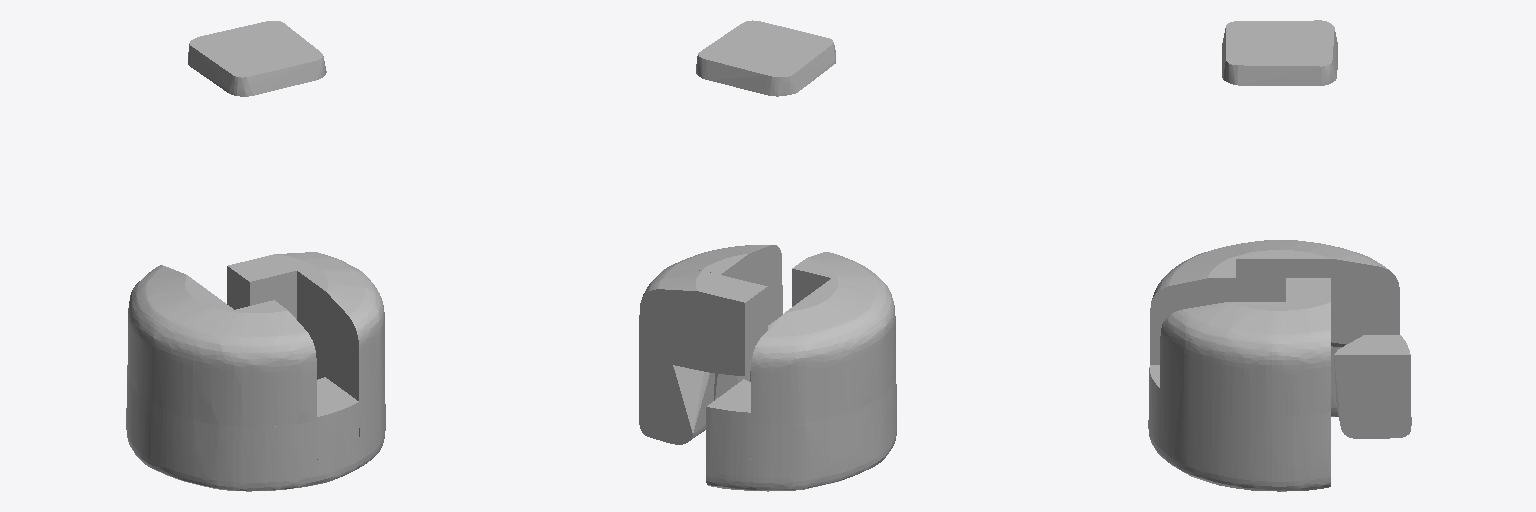
robot.urdf — root:
<robot name="root"><link name="body"><visual>
      <origin xyz="0 0 0" rpy="0 0 0" />
      <geometry>
        <mesh filename="coacd_convex_piece_0.obj" scale="1.0000E+00 1.0000E+00 1.0000E+00" />
      </geometry>
      <material name="">
        <color rgba="7.50E-01 7.50E-01 7.50E-01 1" />
      </material>
    </visual>
    <collision>
      <origin xyz="0 0 0" rpy="0 0 0" />
      <geometry>
        <mesh filename="coacd_convex_piece_0.obj" scale="1.0000E+00 1.0000E+00 1.0000E+00" />
      </geometry>
    </collision>
  <visual>
      <origin xyz="0 0 0" rpy="0 0 0" />
      <geometry>
        <mesh filename="coacd_convex_piece_1.obj" scale="1.0000E+00 1.0000E+00 1.0000E+00" />
      </geometry>
      <material name="">
        <color rgba="7.50E-01 7.50E-01 7.50E-01 1" />
      </material>
    </visual>
    <collision>
      <origin xyz="0 0 0" rpy="0 0 0" />
      <geometry>
        <mesh filename="coacd_convex_piece_1.obj" scale="1.0000E+00 1.0000E+00 1.0000E+00" />
      </geometry>
    </collision>
  <visual>
      <origin xyz="0 0 0" rpy="0 0 0" />
      <geometry>
        <mesh filename="coacd_convex_piece_2.obj" scale="1.0000E+00 1.0000E+00 1.0000E+00" />
      </geometry>
      <material name="">
        <color rgba="7.50E-01 7.50E-01 7.50E-01 1" />
      </material>
    </visual>
    <collision>
      <origin xyz="0 0 0" rpy="0 0 0" />
      <geometry>
        <mesh filename="coacd_convex_piece_2.obj" scale="1.0000E+00 1.0000E+00 1.0000E+00" />
      </geometry>
    </collision>
  <visual>
      <origin xyz="0 0 0" rpy="0 0 0" />
      <geometry>
        <mesh filename="coacd_convex_piece_3.obj" scale="1.0000E+00 1.0000E+00 1.0000E+00" />
      </geometry>
      <material name="">
        <color rgba="7.50E-01 7.50E-01 7.50E-01 1" />
      </material>
    </visual>
    <collision>
      <origin xyz="0 0 0" rpy="0 0 0" />
      <geometry>
        <mesh filename="coacd_convex_piece_3.obj" scale="1.0000E+00 1.0000E+00 1.0000E+00" />
      </geometry>
    </collision>
  <visual>
      <origin xyz="0 0 0" rpy="0 0 0" />
      <geometry>
        <mesh filename="coacd_convex_piece_4.obj" scale="1.0000E+00 1.0000E+00 1.0000E+00" />
      </geometry>
      <material name="">
        <color rgba="7.50E-01 7.50E-01 7.50E-01 1" />
      </material>
    </visual>
    <collision>
      <origin xyz="0 0 0" rpy="0 0 0" />
      <geometry>
        <mesh filename="coacd_convex_piece_4.obj" scale="1.0000E+00 1.0000E+00 1.0000E+00" />
      </geometry>
    </collision>
  <visual>
      <origin xyz="0 0 0" rpy="0 0 0" />
      <geometry>
        <mesh filename="coacd_convex_piece_5.obj" scale="1.0000E+00 1.0000E+00 1.0000E+00" />
      </geometry>
      <material name="">
        <color rgba="7.50E-01 7.50E-01 7.50E-01 1" />
      </material>
    </visual>
    <collision>
      <origin xyz="0 0 0" rpy="0 0 0" />
      <geometry>
        <mesh filename="coacd_convex_piece_5.obj" scale="1.0000E+00 1.0000E+00 1.0000E+00" />
      </geometry>
    </collision>
  <visual>
      <origin xyz="0 0 0" rpy="0 0 0" />
      <geometry>
        <mesh filename="coacd_convex_piece_6.obj" scale="1.0000E+00 1.0000E+00 1.0000E+00" />
      </geometry>
      <material name="">
        <color rgba="7.50E-01 7.50E-01 7.50E-01 1" />
      </material>
    </visual>
    <collision>
      <origin xyz="0 0 0" rpy="0 0 0" />
      <geometry>
        <mesh filename="coacd_convex_piece_6.obj" scale="1.0000E+00 1.0000E+00 1.0000E+00" />
      </geometry>
    </collision>
  <visual>
      <origin xyz="0 0 0" rpy="0 0 0" />
      <geometry>
        <mesh filename="coacd_convex_piece_7.obj" scale="1.0000E+00 1.0000E+00 1.0000E+00" />
      </geometry>
      <material name="">
        <color rgba="7.50E-01 7.50E-01 7.50E-01 1" />
      </material>
    </visual>
    <collision>
      <origin xyz="0 0 0" rpy="0 0 0" />
      <geometry>
        <mesh filename="coacd_convex_piece_7.obj" scale="1.0000E+00 1.0000E+00 1.0000E+00" />
      </geometry>
    </collision>
  <visual>
      <origin xyz="0 0 0" rpy="0 0 0" />
      <geometry>
        <mesh filename="coacd_convex_piece_8.obj" scale="1.0000E+00 1.0000E+00 1.0000E+00" />
      </geometry>
      <material name="">
        <color rgba="7.50E-01 7.50E-01 7.50E-01 1" />
      </material>
    </visual>
    <collision>
      <origin xyz="0 0 0" rpy="0 0 0" />
      <geometry>
        <mesh filename="coacd_convex_piece_8.obj" scale="1.0000E+00 1.0000E+00 1.0000E+00" />
      </geometry>
    </collision>
  <visual>
      <origin xyz="0 0 0" rpy="0 0 0" />
      <geometry>
        <mesh filename="coacd_convex_piece_9.obj" scale="1.0000E+00 1.0000E+00 1.0000E+00" />
      </geometry>
      <material name="">
        <color rgba="7.50E-01 7.50E-01 7.50E-01 1" />
      </material>
    </visual>
    <collision>
      <origin xyz="0 0 0" rpy="0 0 0" />
      <geometry>
        <mesh filename="coacd_convex_piece_9.obj" scale="1.0000E+00 1.0000E+00 1.0000E+00" />
      </geometry>
    </collision>
  <visual>
      <origin xyz="0 0 0" rpy="0 0 0" />
      <geometry>
        <mesh filename="coacd_convex_piece_10.obj" scale="1.0000E+00 1.0000E+00 1.0000E+00" />
      </geometry>
      <material name="">
        <color rgba="7.50E-01 7.50E-01 7.50E-01 1" />
      </material>
    </visual>
    <collision>
      <origin xyz="0 0 0" rpy="0 0 0" />
      <geometry>
        <mesh filename="coacd_convex_piece_10.obj" scale="1.0000E+00 1.0000E+00 1.0000E+00" />
      </geometry>
    </collision>
  <visual>
      <origin xyz="0 0 0" rpy="0 0 0" />
      <geometry>
        <mesh filename="coacd_convex_piece_11.obj" scale="1.0000E+00 1.0000E+00 1.0000E+00" />
      </geometry>
      <material name="">
        <color rgba="7.50E-01 7.50E-01 7.50E-01 1" />
      </material>
    </visual>
    <collision>
      <origin xyz="0 0 0" rpy="0 0 0" />
      <geometry>
        <mesh filename="coacd_convex_piece_11.obj" scale="1.0000E+00 1.0000E+00 1.0000E+00" />
      </geometry>
    </collision>
  <visual>
      <origin xyz="0 0 0" rpy="0 0 0" />
      <geometry>
        <mesh filename="coacd_convex_piece_12.obj" scale="1.0000E+00 1.0000E+00 1.0000E+00" />
      </geometry>
      <material name="">
        <color rgba="7.50E-01 7.50E-01 7.50E-01 1" />
      </material>
    </visual>
    <collision>
      <origin xyz="0 0 0" rpy="0 0 0" />
      <geometry>
        <mesh filename="coacd_convex_piece_12.obj" scale="1.0000E+00 1.0000E+00 1.0000E+00" />
      </geometry>
    </collision>
  <visual>
      <origin xyz="0 0 0" rpy="0 0 0" />
      <geometry>
        <mesh filename="coacd_convex_piece_13.obj" scale="1.0000E+00 1.0000E+00 1.0000E+00" />
      </geometry>
      <material name="">
        <color rgba="7.50E-01 7.50E-01 7.50E-01 1" />
      </material>
    </visual>
    <collision>
      <origin xyz="0 0 0" rpy="0 0 0" />
      <geometry>
        <mesh filename="coacd_convex_piece_13.obj" scale="1.0000E+00 1.0000E+00 1.0000E+00" />
      </geometry>
    </collision>
  <visual>
      <origin xyz="0 0 0" rpy="0 0 0" />
      <geometry>
        <mesh filename="coacd_convex_piece_14.obj" scale="1.0000E+00 1.0000E+00 1.0000E+00" />
      </geometry>
      <material name="">
        <color rgba="7.50E-01 7.50E-01 7.50E-01 1" />
      </material>
    </visual>
    <collision>
      <origin xyz="0 0 0" rpy="0 0 0" />
      <geometry>
        <mesh filename="coacd_convex_piece_14.obj" scale="1.0000E+00 1.0000E+00 1.0000E+00" />
      </geometry>
    </collision>
  </link></robot>

--- Render facts (derived) ---
3 views of the same robot in one strip: view 1: azimuth 30°, elevation 25°; view 2: azimuth 150°, elevation 25°; view 3: azimuth 270°, elevation 25° (orthographic).
Robot: root — 1 links, 0 joints (none); root link body; default pose: all joints at 0.
Visible links, largest first — view 1: body; view 2: body; view 3: body.
Link boxes in pixels (x1,y1,x2,y2): body: (126, 21, 385, 491); body: (639, 20, 896, 491); body: (1148, 20, 1411, 491).
Size in the robot's own frame: 0.8421 by 0.8435 by 1.41 metres.
Meshes: 15 distinct files referenced, 10 mesh visuals loaded (10 OBJ); not drawn: 5 (reference not matched to a file when rendering).